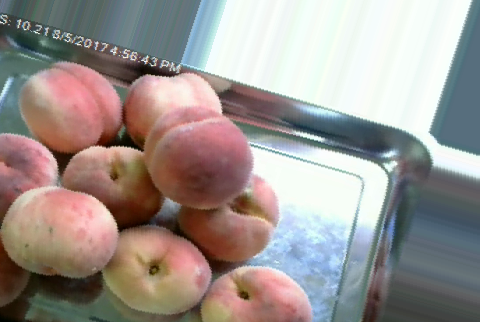Peach: (148, 103, 253, 209), (124, 71, 236, 168), (3, 186, 118, 279), (100, 226, 210, 314), (176, 169, 279, 262), (19, 61, 123, 152), (56, 140, 163, 227), (202, 267, 305, 322)
